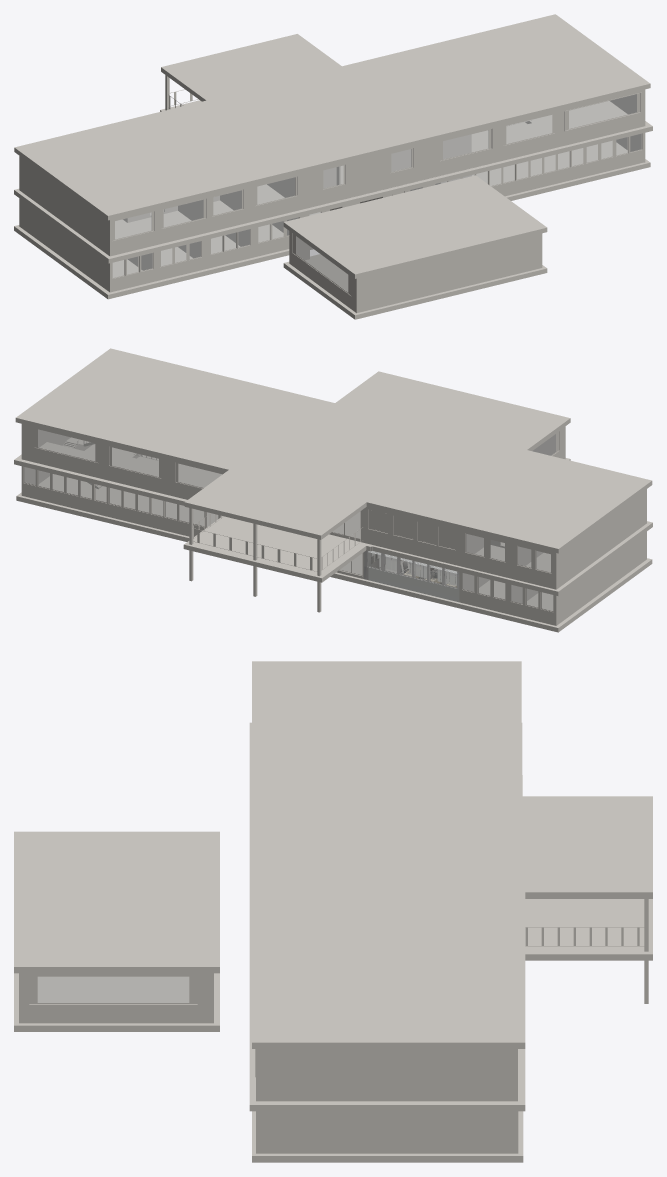
Rendered from smart_ideas_walk.glb.
The picture shows the model from 3 angles, top to bottom: view 1: azimuth 30°, elevation 25°; view 2: azimuth 150°, elevation 25°; view 3: azimuth 270°, elevation 25°; orthographic projection. The views are drawn at different scales.
Visible parts, largest first — view 1: BEYOND_L2_SLAB, BEYOND_L1_WALL, BEYOND_L0_WALL, BEYOND_L0_SLAB, BEYOND_L1_SLAB, BEYOND_L1_GLASS, BEYOND_L0_GLASS, UPPER_in_zone, BEYOND_L1_FRAME, BEYOND_L0_FRAME, BEYOND_L1_OTHER, BEYOND_L0_OTHER; view 2: BEYOND_L2_SLAB, BEYOND_L1_SLAB, BEYOND_L1_WALL, BEYOND_L0_WALL, UPPER_in_zone, BEYOND_L0_SLAB, BEYOND_L1_GLASS, BEYOND_L0_GLASS, BAKE_wall_north, BEYOND_L0_FRAME, BEYOND_L1_FRAME, GLASS_zone (+6 smaller); view 3: BEYOND_L2_SLAB, BEYOND_L0_WALL, BEYOND_L1_WALL, BEYOND_L1_SLAB, BEYOND_L0_SLAB, UPPER_in_zone, BEYOND_L0_GLASS, BEYOND_L0_FRAME.
Part boxes in pixels (left/top/right/bottom): BEYOND_L2_SLAB: left=14, top=14, right=650, bottom=278; BEYOND_L1_WALL: left=19, top=89, right=645, bottom=256; BEYOND_L0_WALL: left=19, top=133, right=645, bottom=313; BEYOND_L0_SLAB: left=14, top=122, right=650, bottom=319; BEYOND_L1_SLAB: left=14, top=100, right=652, bottom=263; BEYOND_L1_GLASS: left=115, top=94, right=636, bottom=238; BEYOND_L0_GLASS: left=113, top=134, right=641, bottom=291; UPPER_in_zone: left=116, top=100, right=248, bottom=150; BEYOND_L1_FRAME: left=113, top=93, right=640, bottom=240; BEYOND_L0_FRAME: left=112, top=134, right=642, bottom=295; BEYOND_L1_OTHER: left=112, top=89, right=641, bottom=240; BEYOND_L0_OTHER: left=124, top=133, right=642, bottom=295; BEYOND_L2_SLAB: left=15, top=348, right=652, bottom=553; BEYOND_L1_SLAB: left=14, top=442, right=652, bottom=596; BEYOND_L1_WALL: left=21, top=424, right=646, bottom=589; BEYOND_L0_WALL: left=21, top=426, right=646, bottom=625; UPPER_in_zone: left=364, top=473, right=495, bottom=565; BEYOND_L0_SLAB: left=16, top=444, right=652, bottom=632; BEYOND_L1_GLASS: left=38, top=429, right=550, bottom=572; BEYOND_L0_GLASS: left=24, top=434, right=555, bottom=610; BAKE_wall_north: left=364, top=550, right=459, bottom=602; BEYOND_L0_FRAME: left=23, top=431, right=558, bottom=611; BEYOND_L1_FRAME: left=34, top=428, right=551, bottom=573; GLASS_zone: left=368, top=551, right=456, bottom=587; BEYOND_L2_SLAB: left=14, top=661, right=652, bottom=1048; BEYOND_L0_WALL: left=19, top=973, right=518, bottom=1153; BEYOND_L1_WALL: left=256, top=1049, right=517, bottom=1101; BEYOND_L1_SLAB: left=249, top=722, right=652, bottom=1111; BEYOND_L0_SLAB: left=14, top=775, right=523, bottom=1162; UPPER_in_zone: left=412, top=732, right=518, bottom=799; BEYOND_L0_GLASS: left=38, top=977, right=188, bottom=1002; BEYOND_L0_FRAME: left=29, top=976, right=197, bottom=1003.
Bounding box in the file's own units: 38.22 × 5.6 × 27.
Materials: 11 (8 with a texture image).
